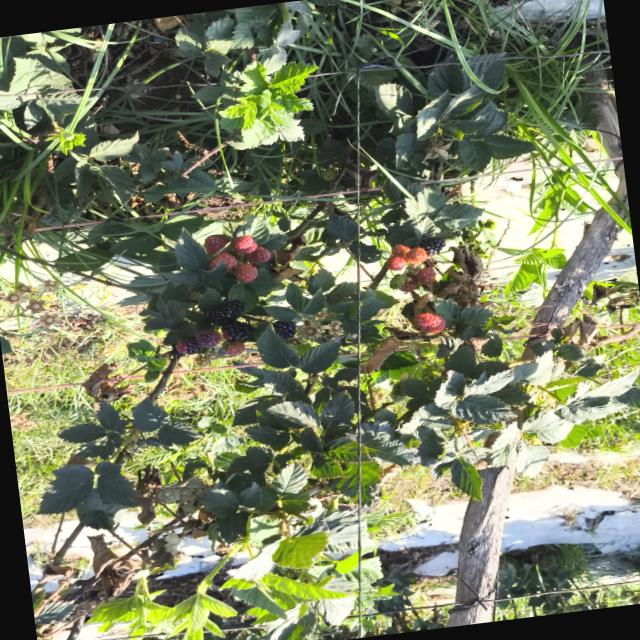maduro: (208, 299, 245, 325), (221, 321, 251, 339), (419, 237, 445, 256), (273, 321, 296, 338)
marron: (195, 328, 221, 347), (175, 337, 203, 354), (224, 340, 245, 355)
naranja: (415, 312, 445, 333), (203, 235, 230, 256), (209, 252, 237, 270), (234, 264, 258, 282), (233, 235, 257, 253), (247, 246, 272, 263), (405, 247, 427, 265), (416, 266, 435, 284), (387, 255, 407, 270), (391, 244, 409, 256)
